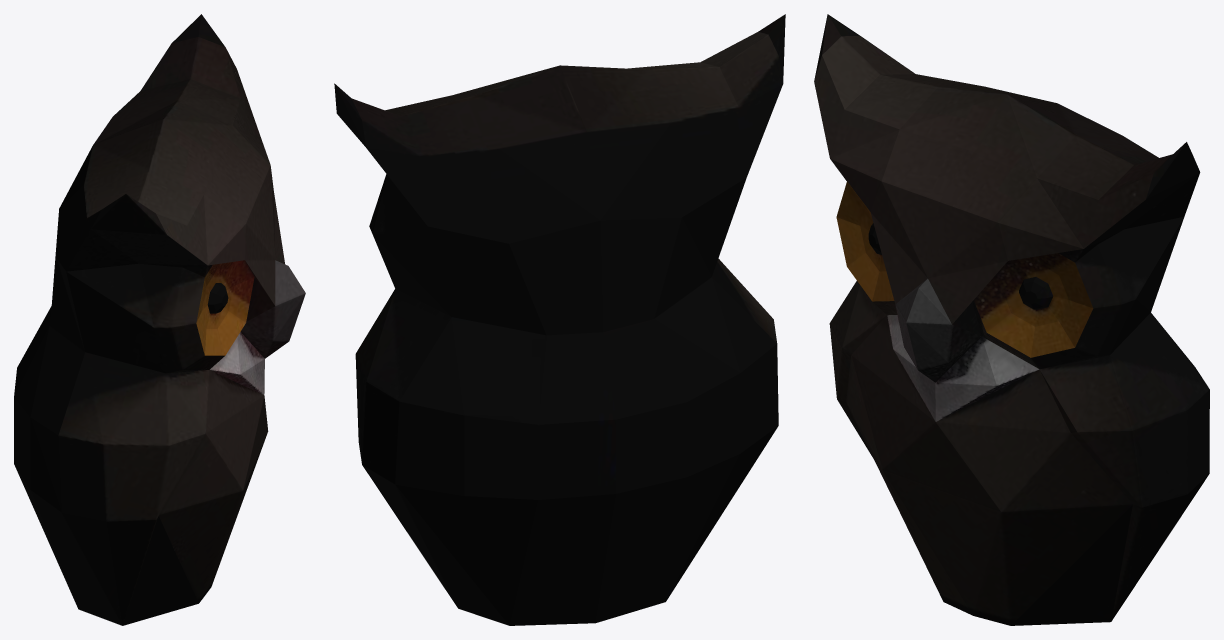
The model's file is owl.glb.
3 views of the same model, side by side, from view 1: azimuth 30°, elevation 25°; view 2: azimuth 150°, elevation 25°; view 3: azimuth 270°, elevation 25° (orthographic). The views are drawn at different scales.
Parts seen in each view (by area): view 1: owl; view 2: owl; view 3: owl.
Part boxes in pixels (box(x1,y1,x2,y2)): owl: box(14, 14, 305, 625); owl: box(334, 14, 785, 625); owl: box(814, 14, 1209, 625).
Size of the model in its own units: 1.26 by 2.01 by 1.38.
1 material, 1 textured.
